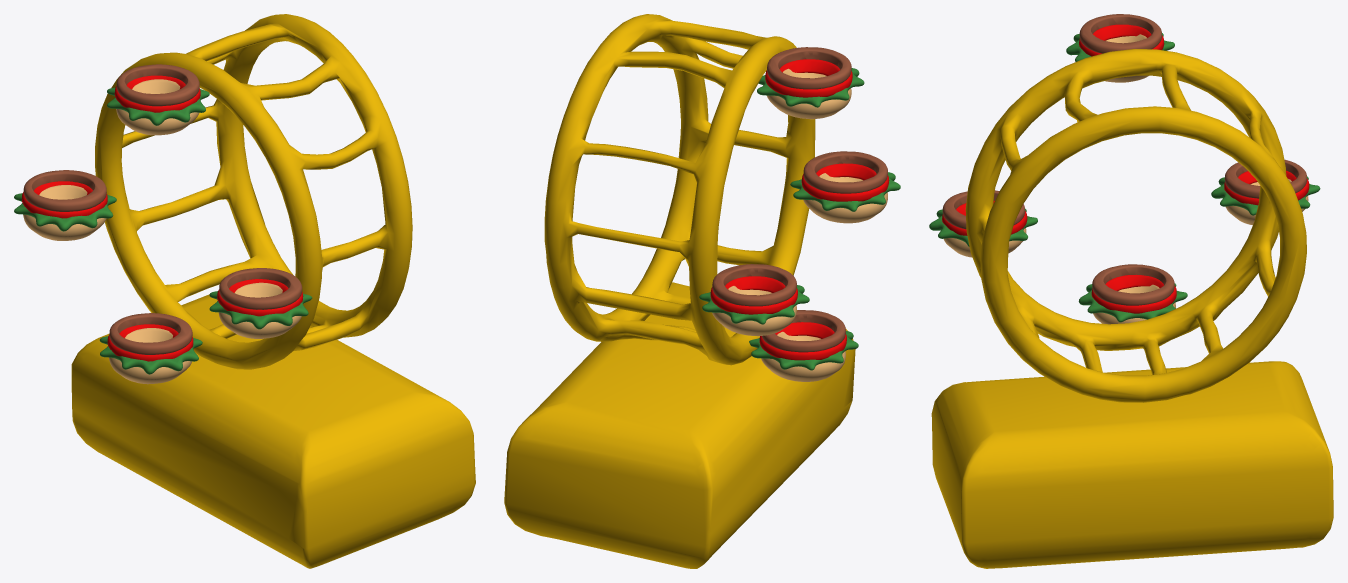
Rendered from ferriswheel.glb.
The picture shows the model from 3 angles, left to right: view 1: azimuth 30°, elevation 25°; view 2: azimuth 150°, elevation 25°; view 3: azimuth 270°, elevation 25°; orthographic projection. The views are drawn at different scales.
Parts seen in each view (by area): view 1: Retopo_geom.002, Retopo_geom.003, Retopo_geom.026, Retopo_geom.025, Retopo_geom.028, Retopo_geom.027; view 2: Retopo_geom.002, Retopo_geom.003, Retopo_geom.027, Retopo_geom.028, Retopo_geom.026, Retopo_geom.025; view 3: Retopo_geom.002, Retopo_geom.003, Retopo_geom.025, Retopo_geom.026, Retopo_geom.028, Retopo_geom.027.
Boxes of the visible parts, bbox=[...] form: Retopo_geom.002: bbox=[71, 294, 475, 568]; Retopo_geom.003: bbox=[95, 14, 412, 369]; Retopo_geom.026: bbox=[107, 64, 209, 135]; Retopo_geom.025: bbox=[99, 313, 202, 384]; Retopo_geom.028: bbox=[14, 170, 116, 240]; Retopo_geom.027: bbox=[209, 268, 312, 338]; Retopo_geom.002: bbox=[504, 282, 855, 568]; Retopo_geom.003: bbox=[544, 14, 815, 365]; Retopo_geom.027: bbox=[790, 151, 900, 223]; Retopo_geom.028: bbox=[699, 264, 809, 336]; Retopo_geom.026: bbox=[757, 47, 864, 119]; Retopo_geom.025: bbox=[749, 310, 858, 381]; Retopo_geom.002: bbox=[931, 361, 1333, 568]; Retopo_geom.003: bbox=[965, 49, 1306, 402]; Retopo_geom.025: bbox=[1078, 264, 1187, 324]; Retopo_geom.026: bbox=[1066, 14, 1174, 82]; Retopo_geom.028: bbox=[1211, 159, 1320, 225]; Retopo_geom.027: bbox=[929, 190, 1037, 257].
Bounding box in the file's own units: 0.587 × 0.8433 × 0.6862.
